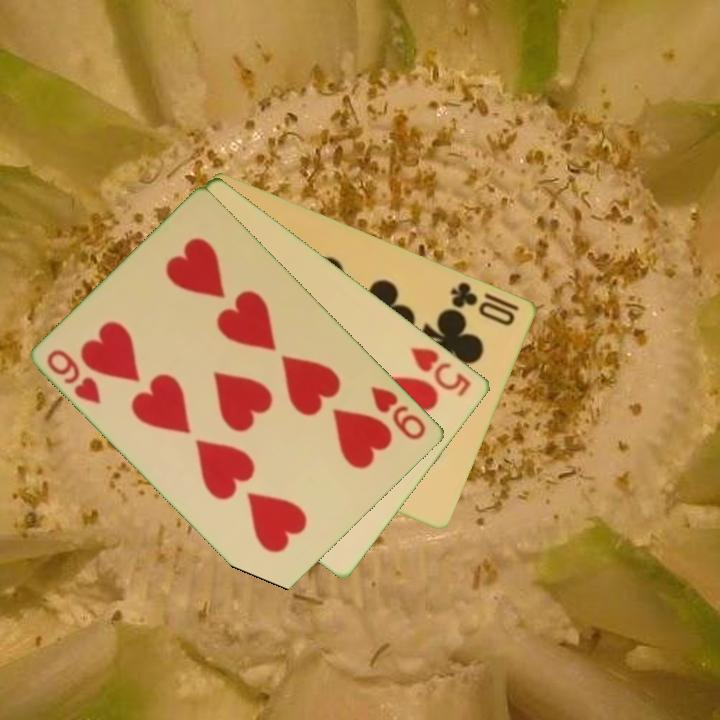10c: (447, 278, 519, 329)
5h: (407, 343, 475, 400)
9h: (43, 345, 105, 408), (368, 382, 430, 443)
